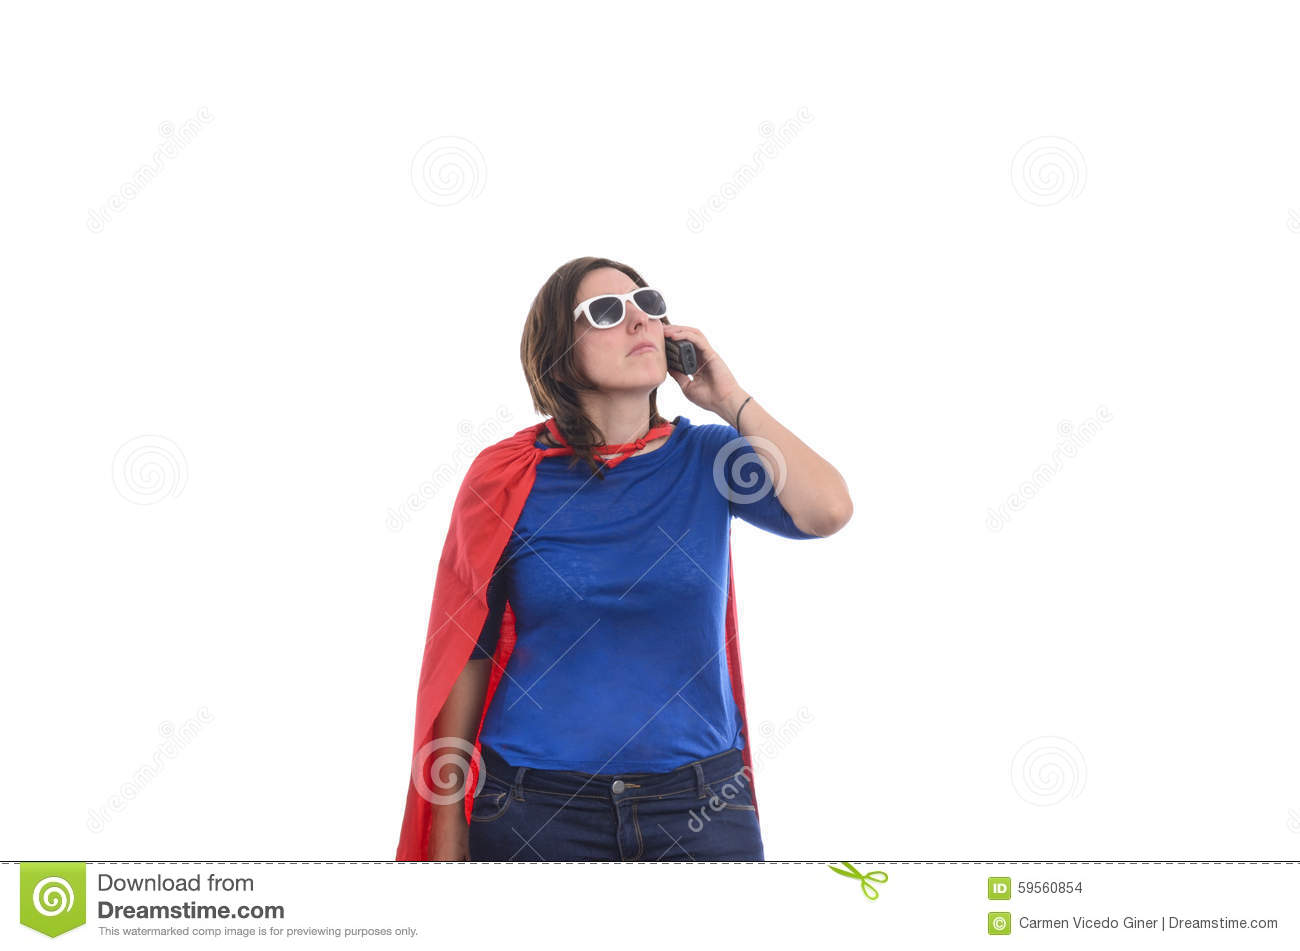phone: (667, 333, 701, 380)
talk: (582, 286, 733, 419)
